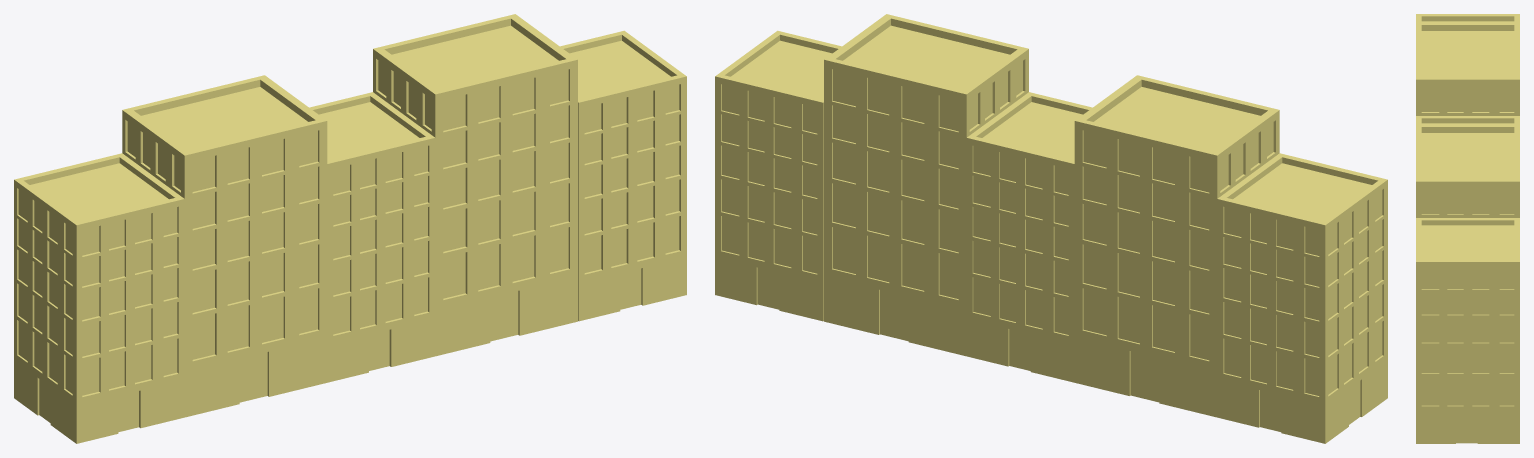
The model's file is Building1.fbx.
3 renders of one model, left to right at view 1: azimuth 30°, elevation 25°; view 2: azimuth 150°, elevation 25°; view 3: azimuth 270°, elevation 25°, orthographic. The views are drawn at different scales.
Visible parts, largest first — view 1: group_9_1; view 2: group_9_1; view 3: group_9_1.
Part boxes in pixels (x1,y1,x2,y2): group_9_1: (14,14,686,443); group_9_1: (715,14,1387,443); group_9_1: (1416,14,1519,443).
Bounding box in the file's own units: 3824 × 1568 × 678.
